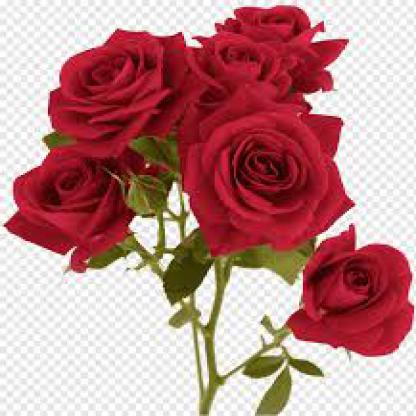Rose-Mawar: (7, 5, 415, 376)
